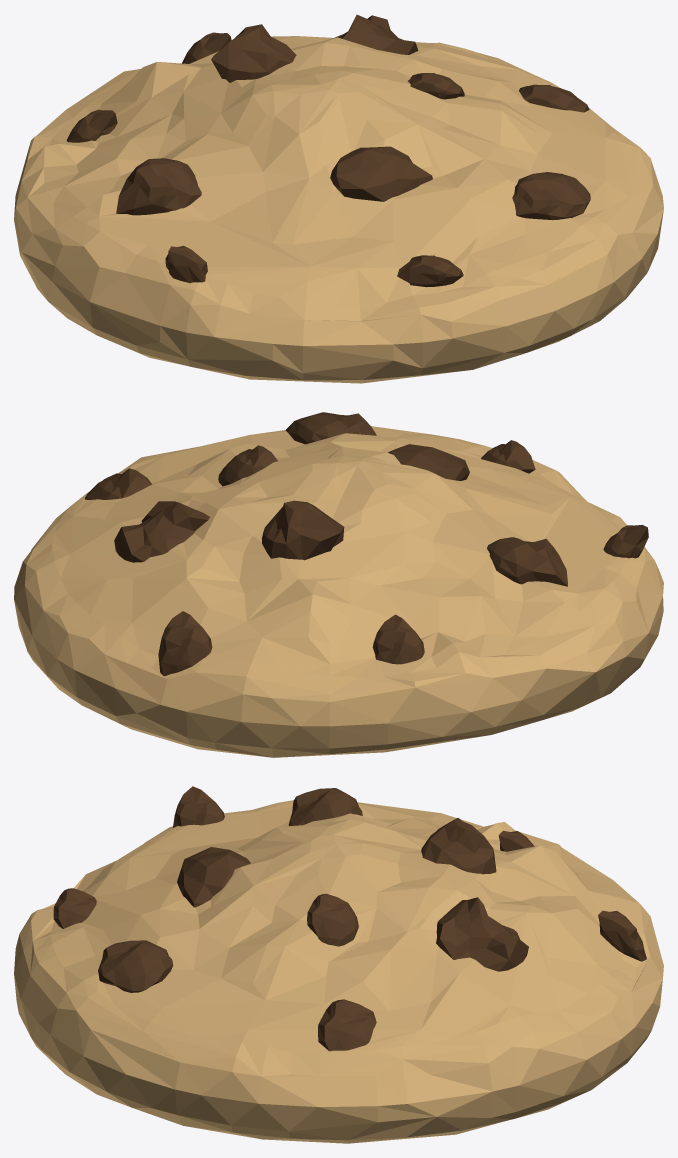
File: a129250e-efde-4511-8ca6-3c4c158423a1.glb
3 renders of one model, top to bottom at view 1: azimuth 30°, elevation 25°; view 2: azimuth 150°, elevation 25°; view 3: azimuth 270°, elevation 25°, orthographic.
Visible parts, largest first — view 1: Cylinder001, Sphere003; view 2: Cylinder001, Sphere003; view 3: Cylinder001, Sphere003.
Part boxes in pixels (left/top/right/bottom): Cylinder001: left=14, top=36, right=663, bottom=383; Sphere003: left=66, top=14, right=590, bottom=287; Cylinder001: left=14, top=426, right=663, bottom=757; Sphere003: left=84, top=412, right=648, bottom=676; Cylinder001: left=14, top=800, right=663, bottom=1143; Sphere003: left=53, top=786, right=646, bottom=1051.
Bounding box in the file's own units: 1191 × 403 × 1188.
